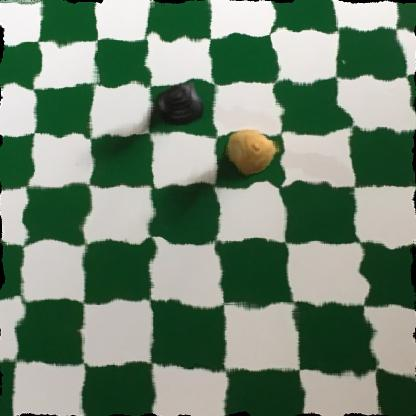black-queen: (149, 79, 208, 131)
white-queen: (221, 131, 281, 170)
